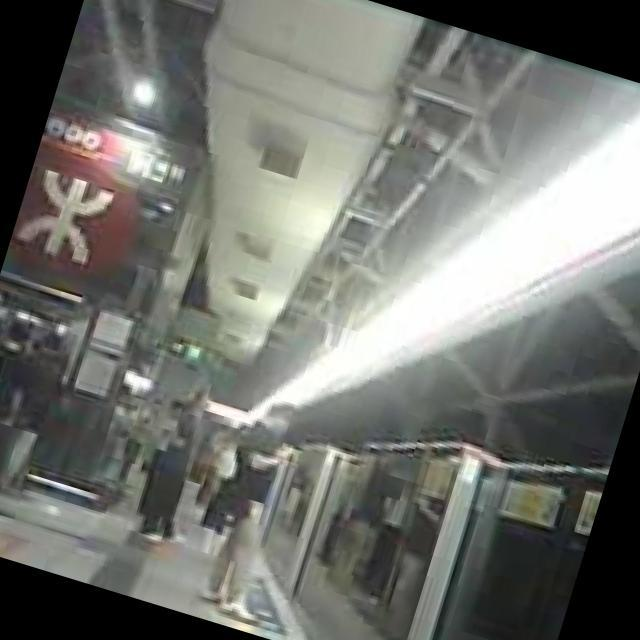person: (187, 392, 319, 625), (129, 381, 220, 547)
